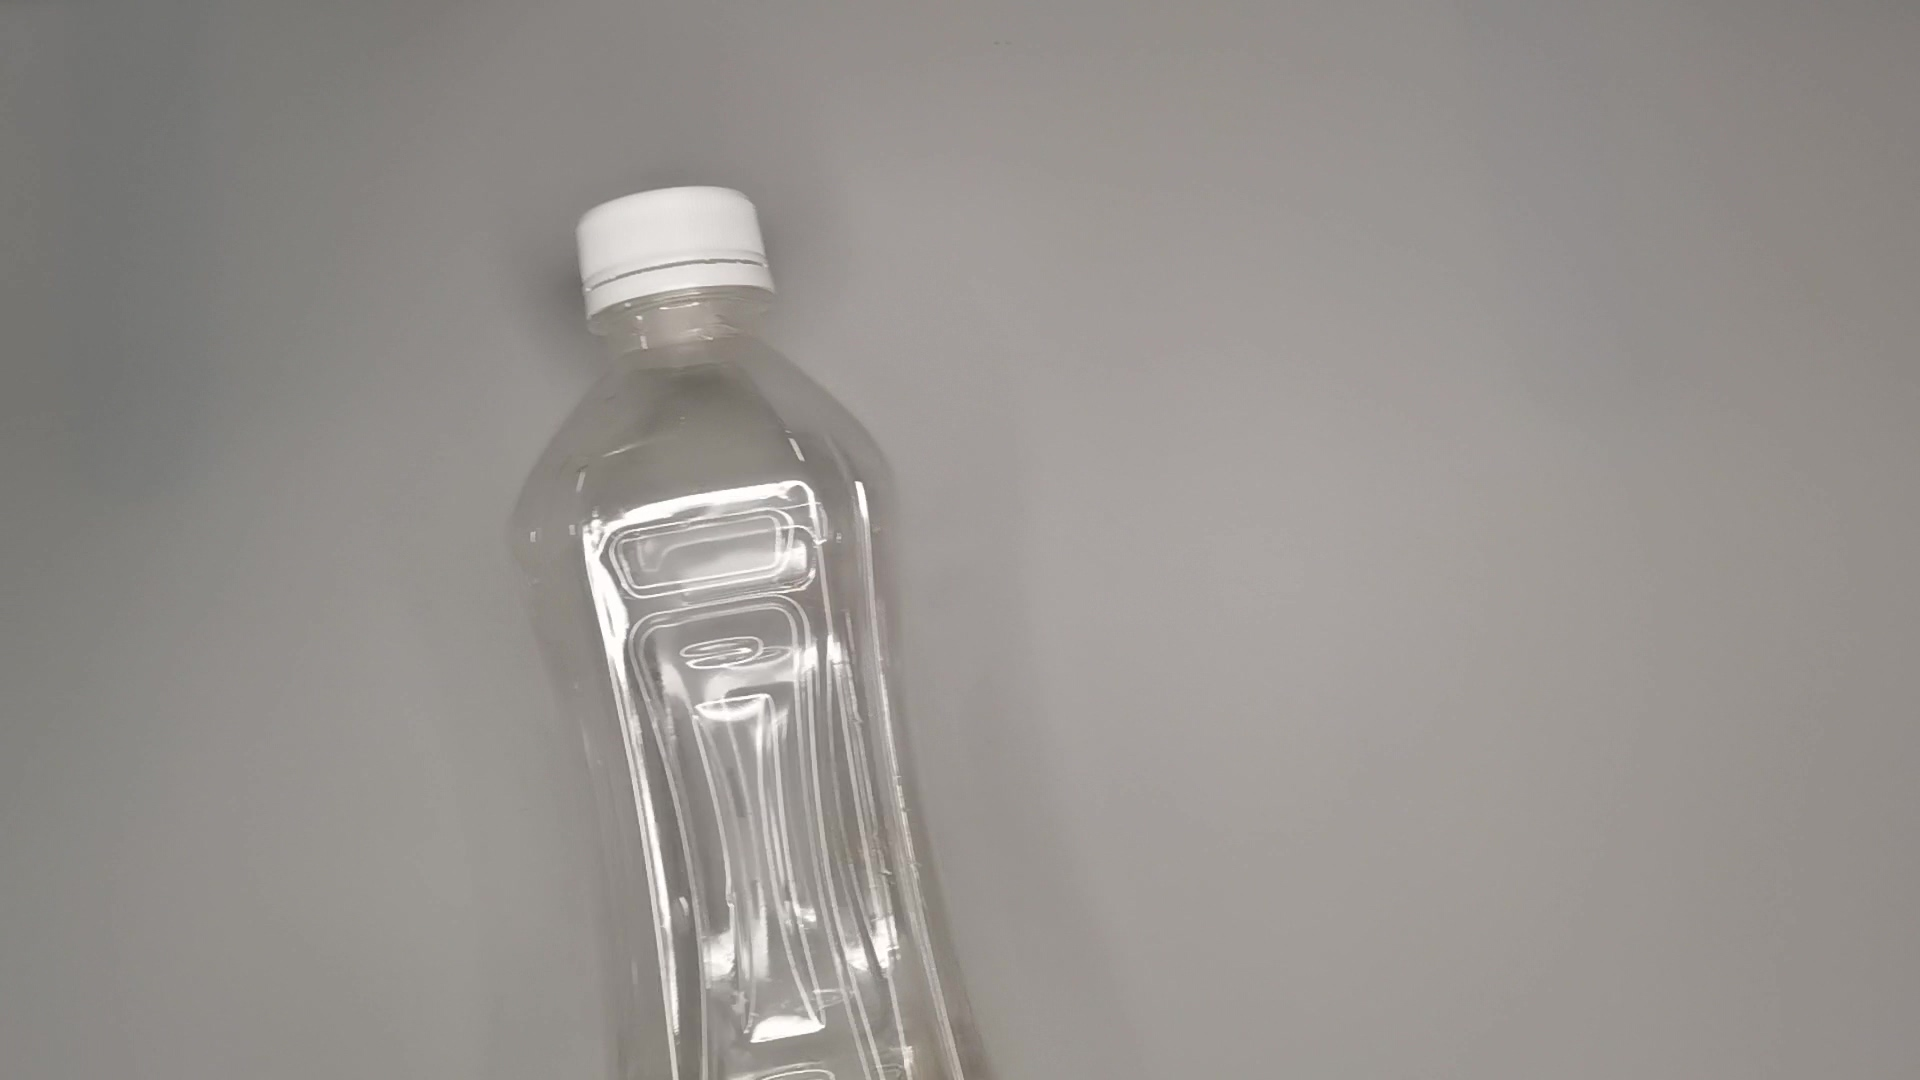bottle: (500, 175, 1025, 1080)
